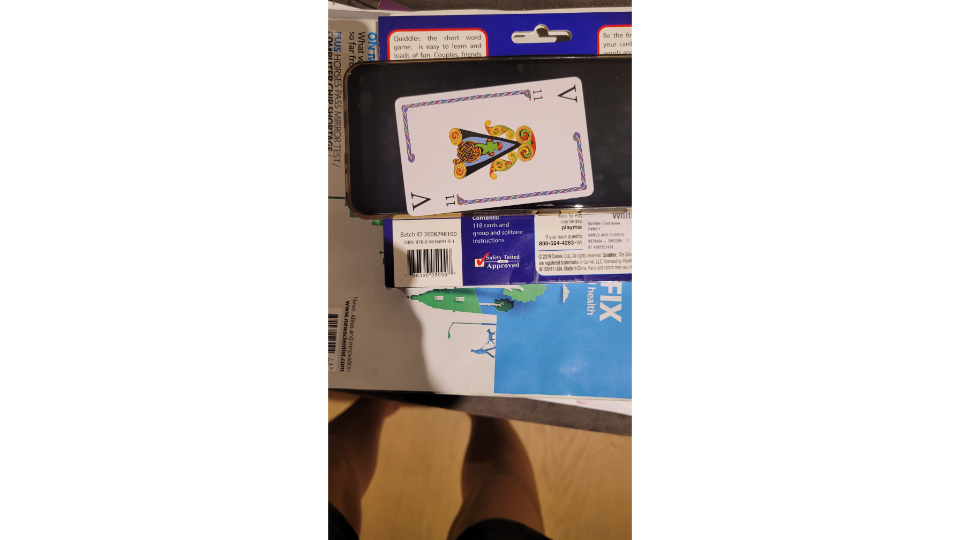V: (393, 75, 597, 218)
